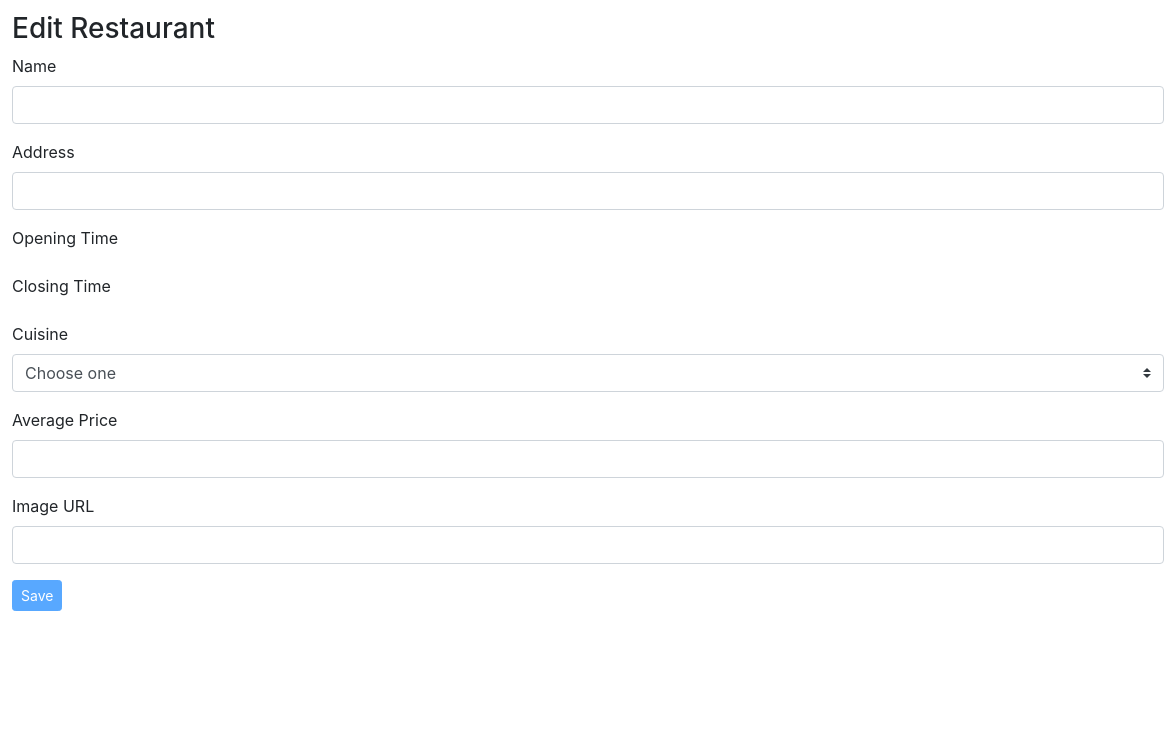
Test case: error message appears if number input is invalid
enter invalid input into number field
Type "0" into the number field labelled "Average Price".
click(588, 459); type("0")  # box [12, 440, 1164, 478]
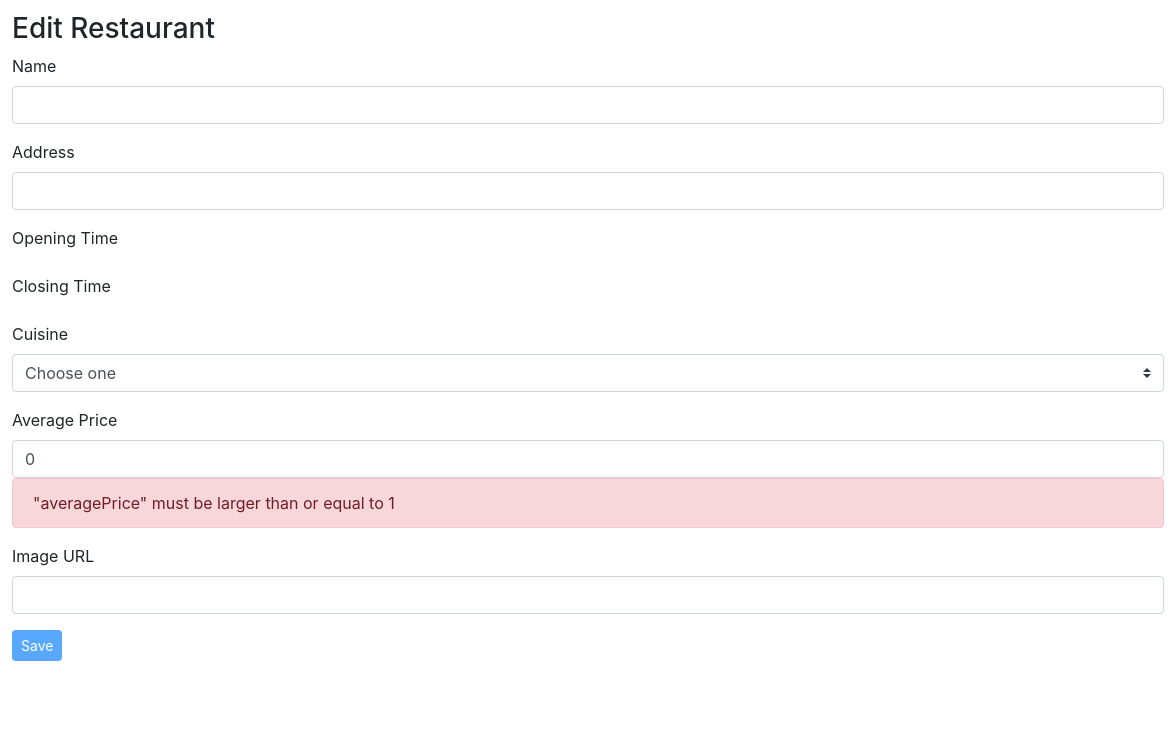
Expected: the text "\"averagePrice\" must be larger than or equal to 1" is shown, [12, 478, 1164, 528]
enter valid input into number field
Replace the text in the number field labelled "Average Price" with "1" at (588, 459), box [12, 440, 1164, 478]
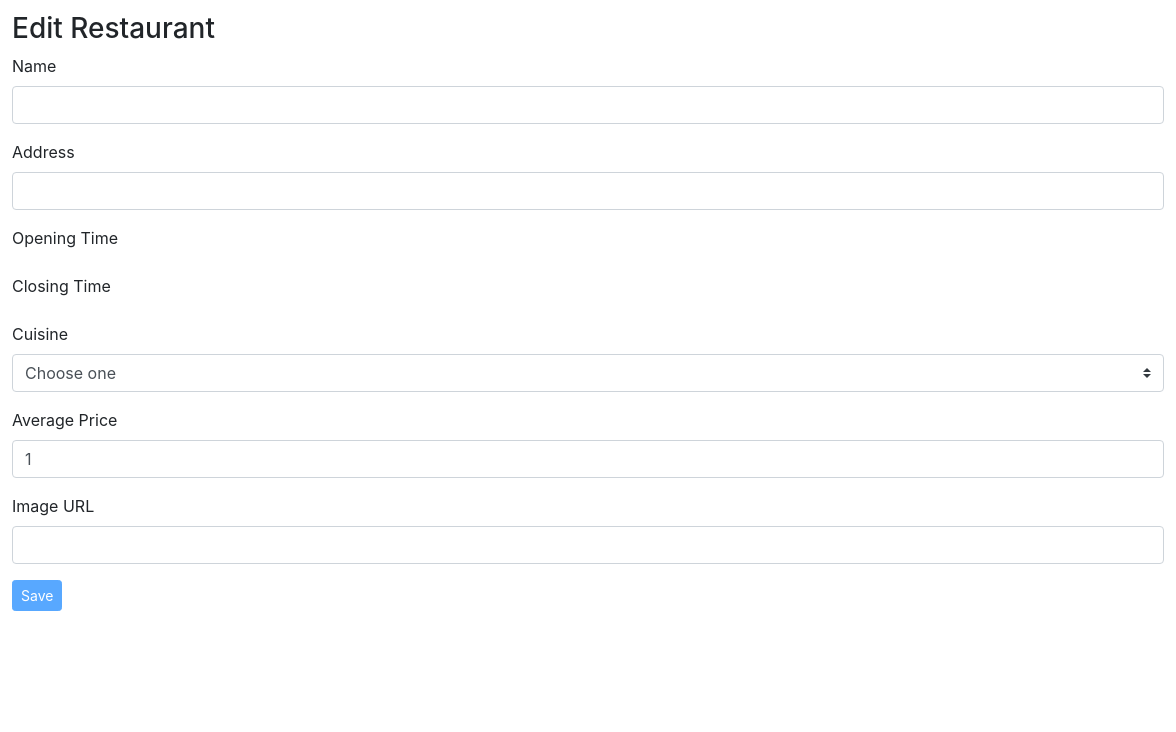
Expected: the text "must be larger than or equal to 1" is gone
